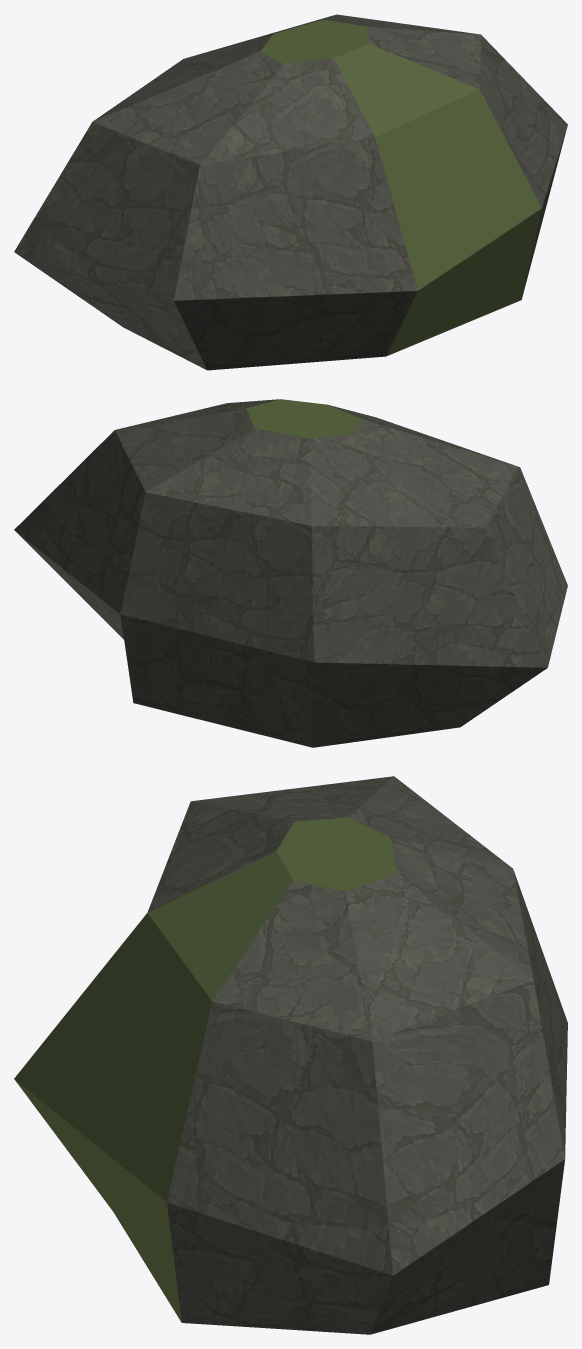
3 renders of one model, top to bottom at view 1: azimuth 30°, elevation 25°; view 2: azimuth 150°, elevation 25°; view 3: azimuth 270°, elevation 25°, orthographic. The views are drawn at different scales.
Parts seen in each view (by area): view 1: Weathered faceted boulder; view 2: Weathered faceted boulder; view 3: Weathered faceted boulder.
Boxes of the visible parts, bbox=[...] form: Weathered faceted boulder: bbox=[14, 14, 567, 370]; Weathered faceted boulder: bbox=[14, 399, 567, 747]; Weathered faceted boulder: bbox=[14, 776, 567, 1334].
Bounding box in the file's own units: 4.2 × 1.87 × 2.59.
2 materials, 1 textured.
